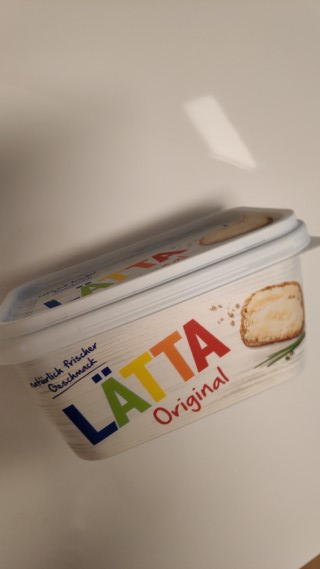laetta: (1, 204, 319, 463)
